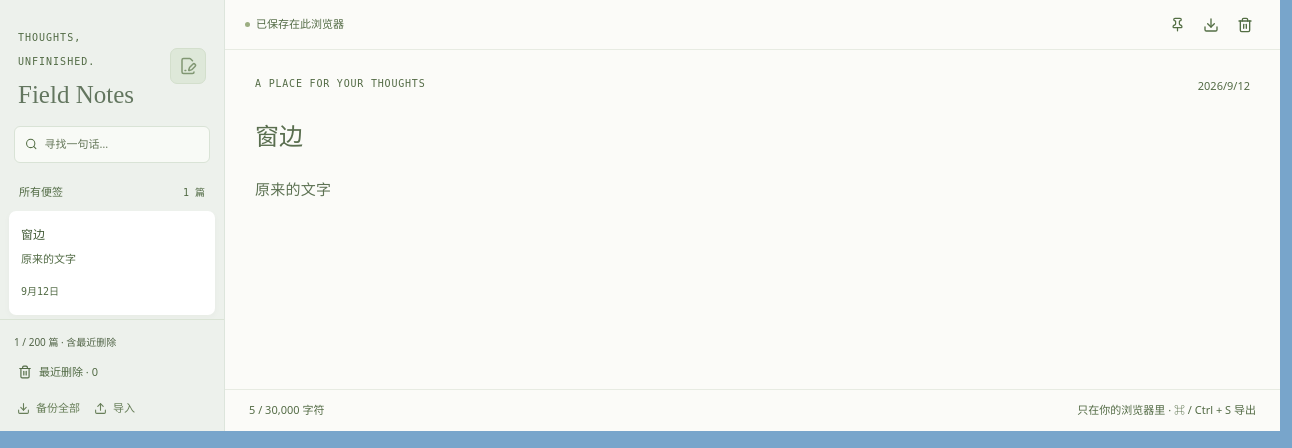
Test: Field Notes editing and recovery › keeps edits available in memory when browser storage is blocked
Replace the text in the text box named "笔记内容" with "仍在本次浏览中": (752, 278) [225,167,1280,390]
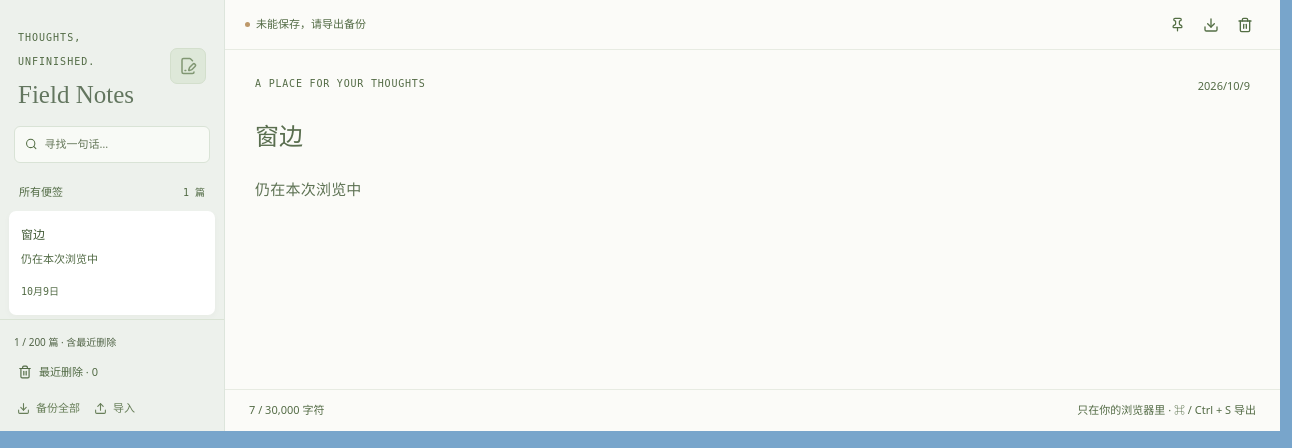
expect the text "未能保存，请导出备份" is shown: met, box [245,16,366,33]
